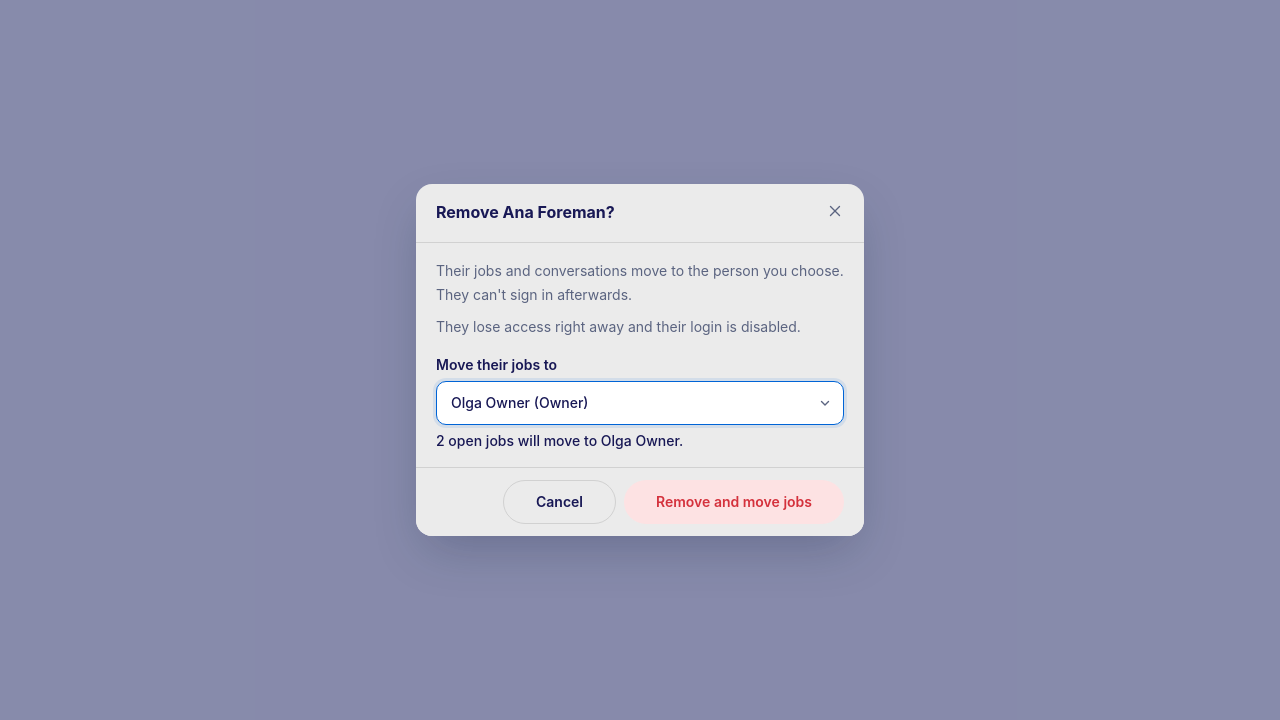
Test: RemoveMemberDialog › names how many open jobs move, to the person picked
The width and height of the screenshot is (1280, 720).
Select "Beto Foreman" in the dropdown labelled "Move their jobs to" at (640, 403), box [436, 381, 844, 425]
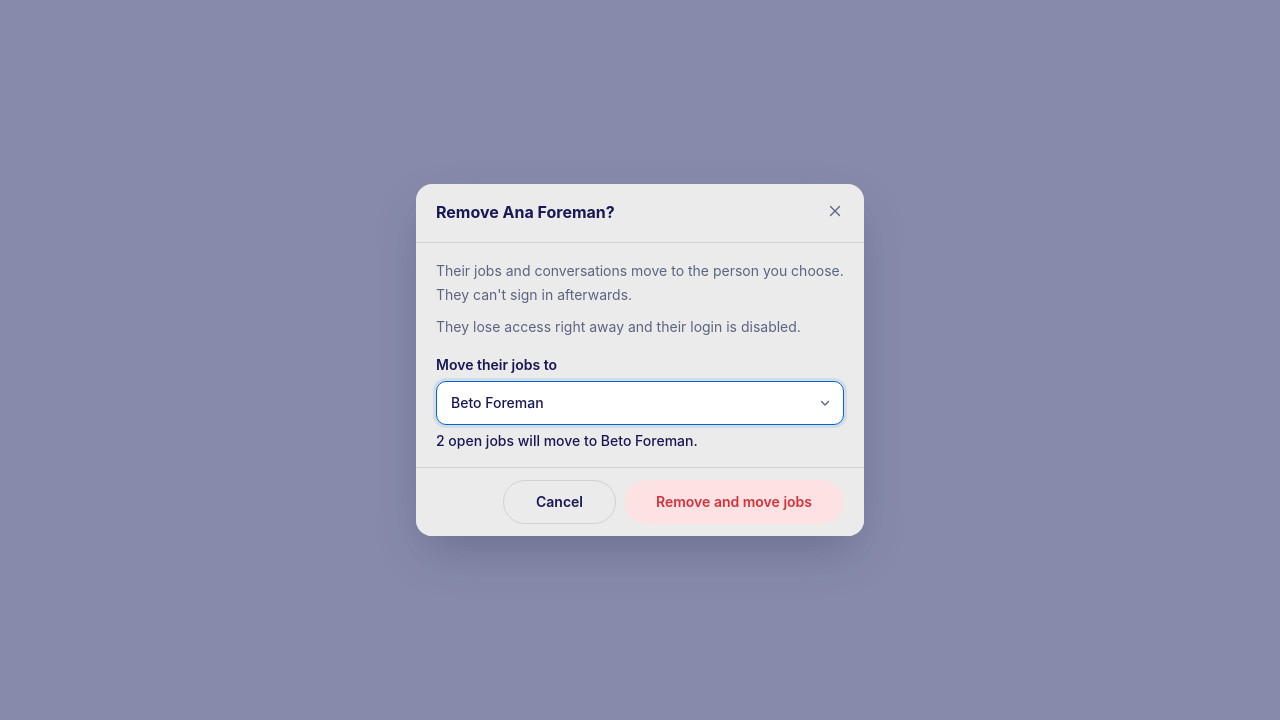
expect the text "will move to Olga" is gone: met
